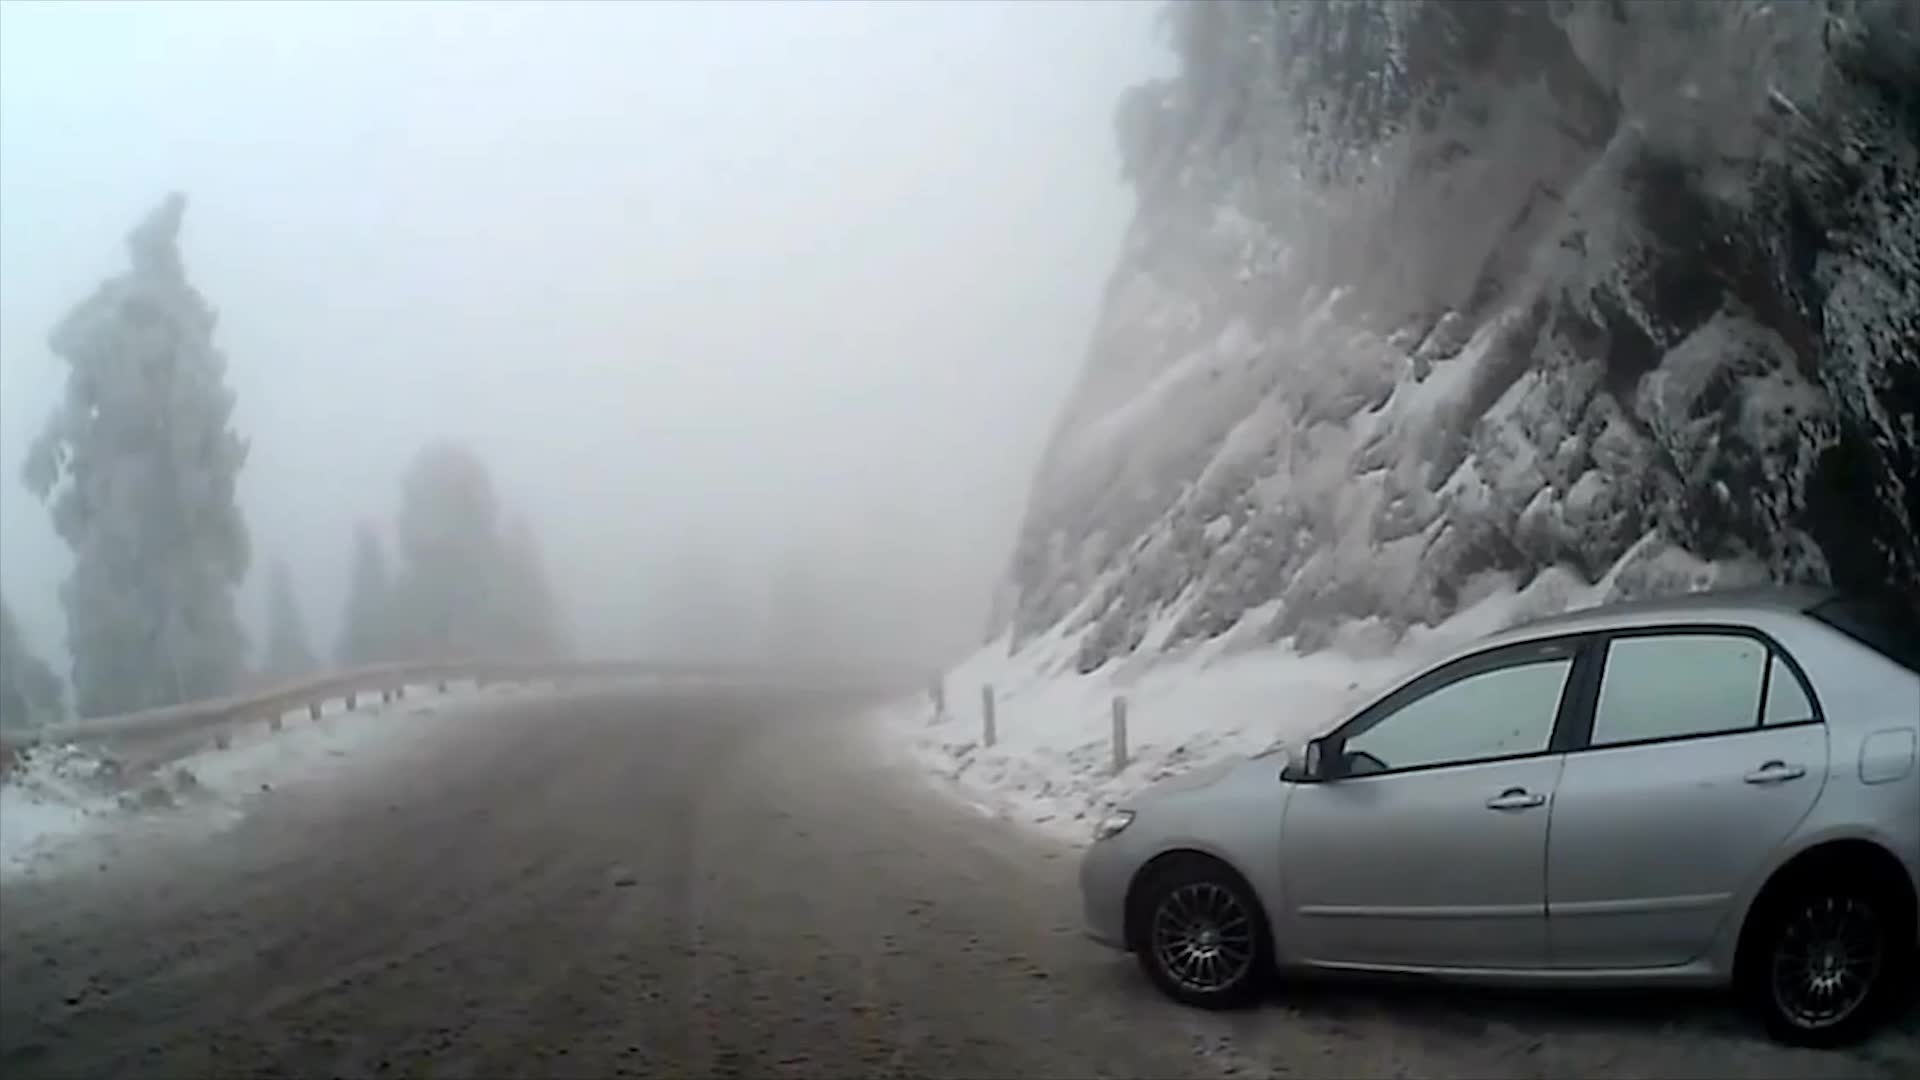vehicle: (1075, 583, 1920, 1052)
